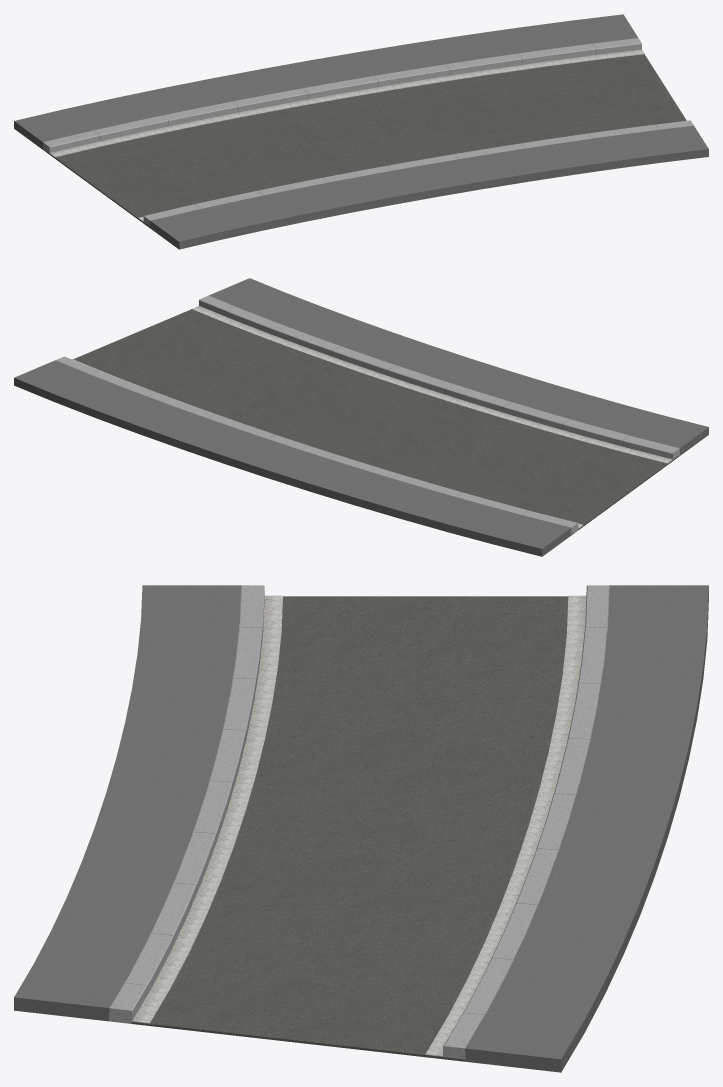
The model's file is sweethome3d-scopia-curved-road-1-lane-13m.glb.
3 renders of one model, top to bottom at view 1: azimuth 30°, elevation 25°; view 2: azimuth 150°, elevation 25°; view 3: azimuth 270°, elevation 25°, orthographic. The views are drawn at different scales.
Visible parts, largest first — view 1: roadCourbe1VoieAvecTrottoirs_Plane.012; view 2: roadCourbe1VoieAvecTrottoirs_Plane.012; view 3: roadCourbe1VoieAvecTrottoirs_Plane.012.
Part boxes in pixels (x1=…): roadCourbe1VoieAvecTrottoirs_Plane.012: x1=14, y1=14, x2=708, y2=249; roadCourbe1VoieAvecTrottoirs_Plane.012: x1=14, y1=278, x2=708, y2=556; roadCourbe1VoieAvecTrottoirs_Plane.012: x1=14, y1=585, x2=708, y2=1072.
Bounding box in the file's own units: 1376 × 18 × 853.
Materials: 9 (9 with a texture image).
